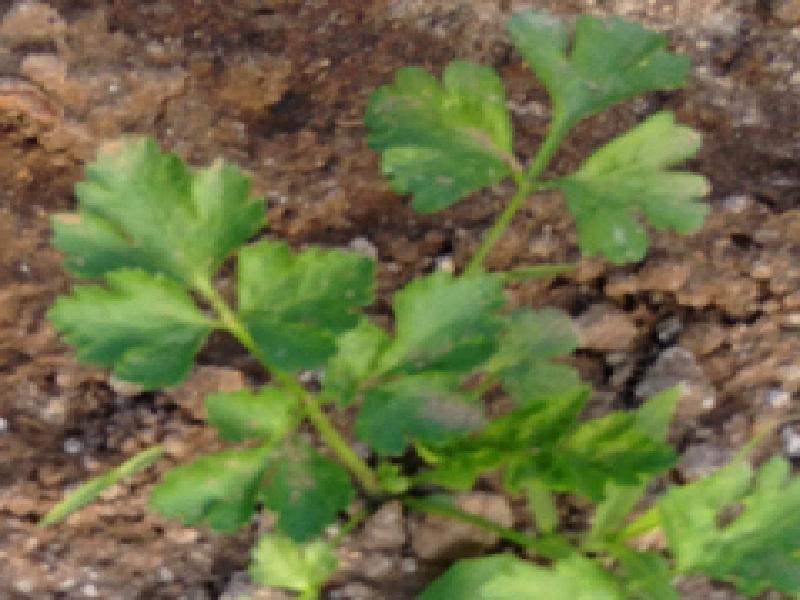radish: (17, 4, 800, 525)
